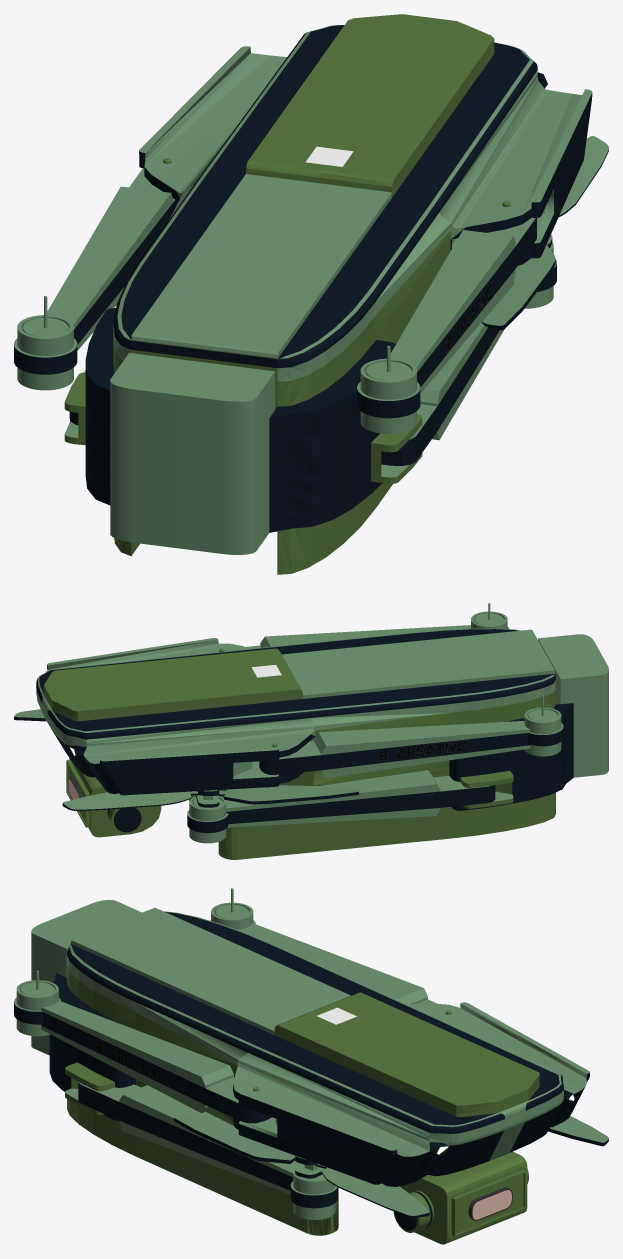
File: body_01_green.e5b41736.glb
3 views of the same model, one above another, from view 1: azimuth 30°, elevation 25°; view 2: azimuth 150°, elevation 25°; view 3: azimuth 270°, elevation 25° (orthographic). The views are drawn at different scales.
Parts seen in each view (by area): view 1: Cube.028, Cube.039, Cube.033, Cube.029, Cube.035, Plane.024, Plane.023; view 2: Cube.028, Cube.029, Cube.030, Cube.039, Cube.033, Plane.020, Cube.037, Plane.019, Cylinder.006, Cube.032; view 3: Cube.028, Cube.033, Cube.035, Cube.037, Cube.029, Cube.039, Plane.024, Plane.023, Plane.019, Cylinder.007, Cube.040.
Part boxes in pixels (x1=…): Cube.028: x1=64, y1=14, x2=592, y2=574; Cube.039: x1=110, y1=353, x2=275, y2=554; Cube.033: x1=357, y1=217, x2=536, y2=433; Cube.029: x1=14, y1=168, x2=178, y2=390; Cube.035: x1=381, y1=242, x2=556, y2=465; Plane.024: x1=482, y1=244, x2=555, y2=330; Plane.023: x1=558, y1=136, x2=608, y2=217; Cube.028: x1=36, y1=628, x2=573, y2=859; Cube.029: x1=259, y1=695, x2=563, y2=777; Cube.030: x1=187, y1=770, x2=495, y2=843; Cube.039: x1=538, y1=634, x2=608, y2=777; Cube.033: x1=246, y1=603, x2=509, y2=648; Plane.020: x1=216, y1=785, x2=358, y2=804; Cube.037: x1=66, y1=758, x2=161, y2=837; Plane.019: x1=62, y1=791, x2=200, y2=810; Cylinder.006: x1=107, y1=807, x2=143, y2=834; Cube.032: x1=196, y1=790, x2=219, y2=807; Cube.028: x1=49, y1=907, x2=589, y2=1235; Cube.033: x1=14, y1=970, x2=271, y2=1123; Cube.035: x1=78, y1=1082, x2=337, y2=1219; Cube.037: x1=400, y1=1151, x2=527, y2=1244; Cube.029: x1=210, y1=888, x2=437, y2=1004; Cube.039: x1=31, y1=900, x2=141, y2=1055; Plane.024: x1=174, y1=1116, x2=295, y2=1163; Plane.023: x1=315, y1=1164, x2=429, y2=1217; Plane.019: x1=548, y1=1116, x2=608, y2=1146; Cylinder.007: x1=393, y1=1190, x2=434, y2=1232; Cube.040: x1=472, y1=1190, x2=511, y2=1219.
Size of the model in its own units: 3.58 by 1.11 by 3.48.
Materials: 12 (1 with a texture image).
